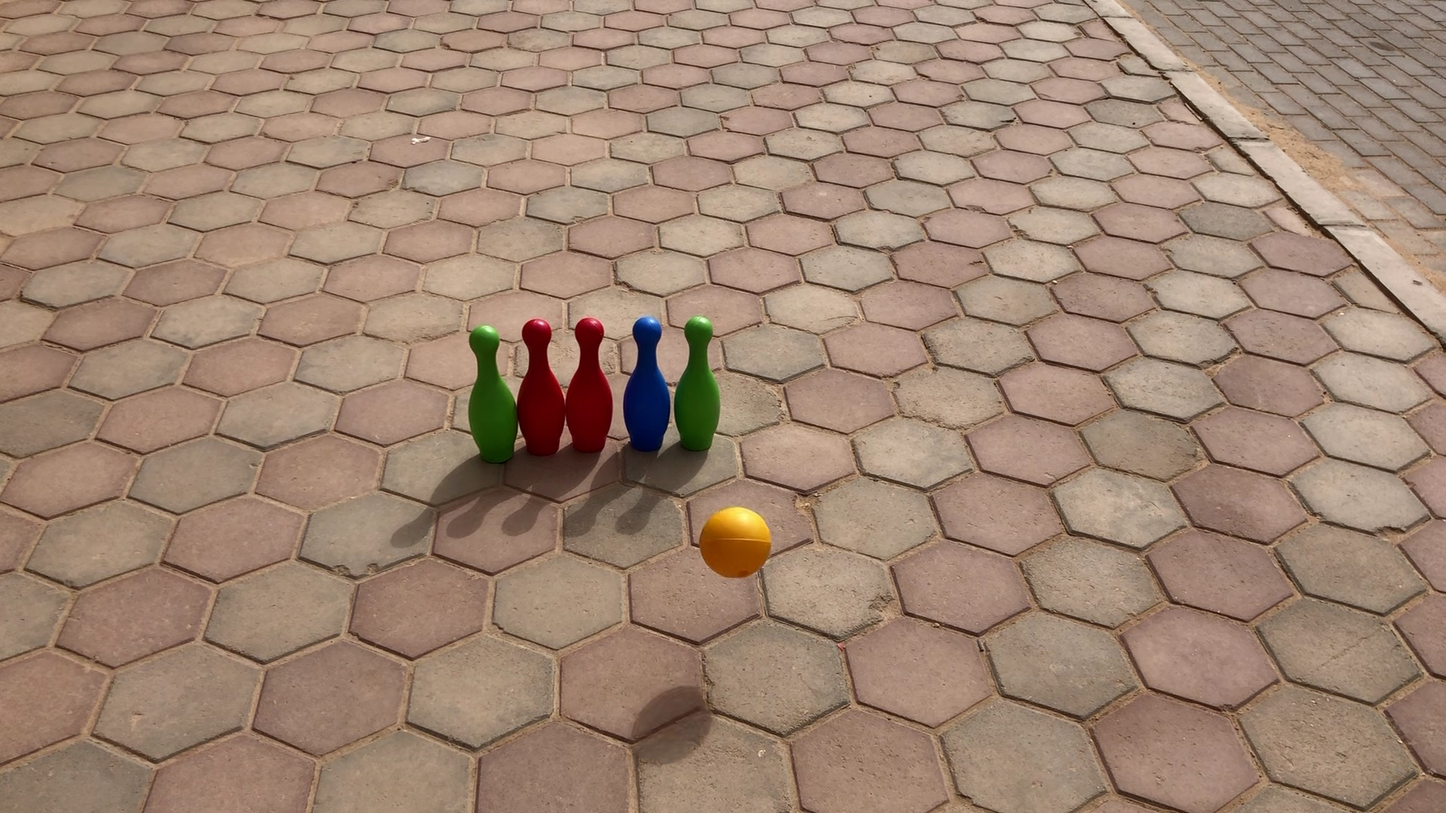pin: (474, 323, 520, 464), (517, 317, 564, 455), (569, 316, 617, 451), (626, 316, 672, 452), (675, 317, 721, 452)
